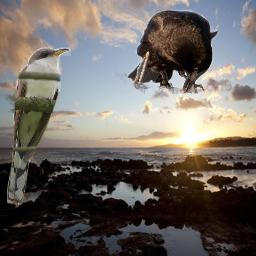Crow: (126, 9, 221, 94)
Cuckoo: (7, 47, 71, 205)
